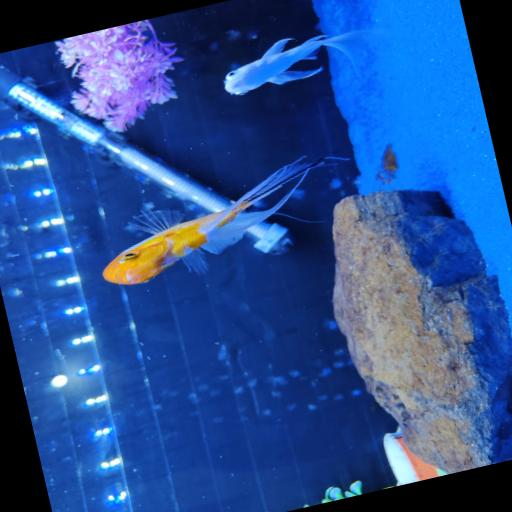Fish: (103, 156, 336, 283), (225, 30, 369, 94)
